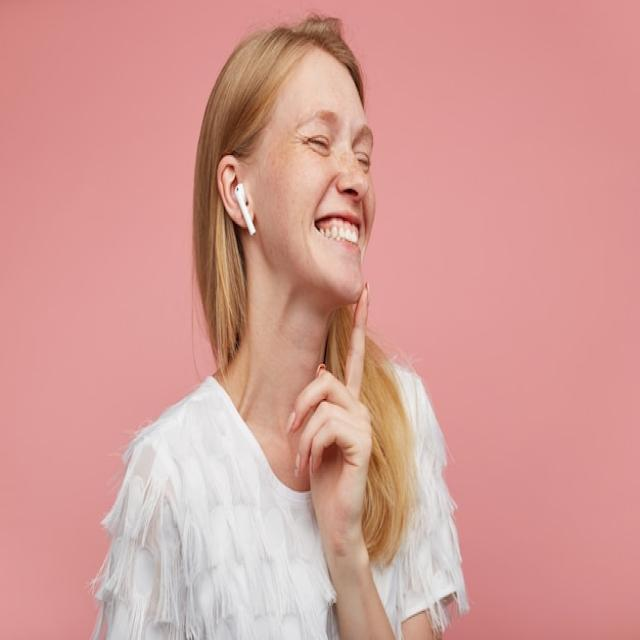airpods: (232, 179, 258, 239)
